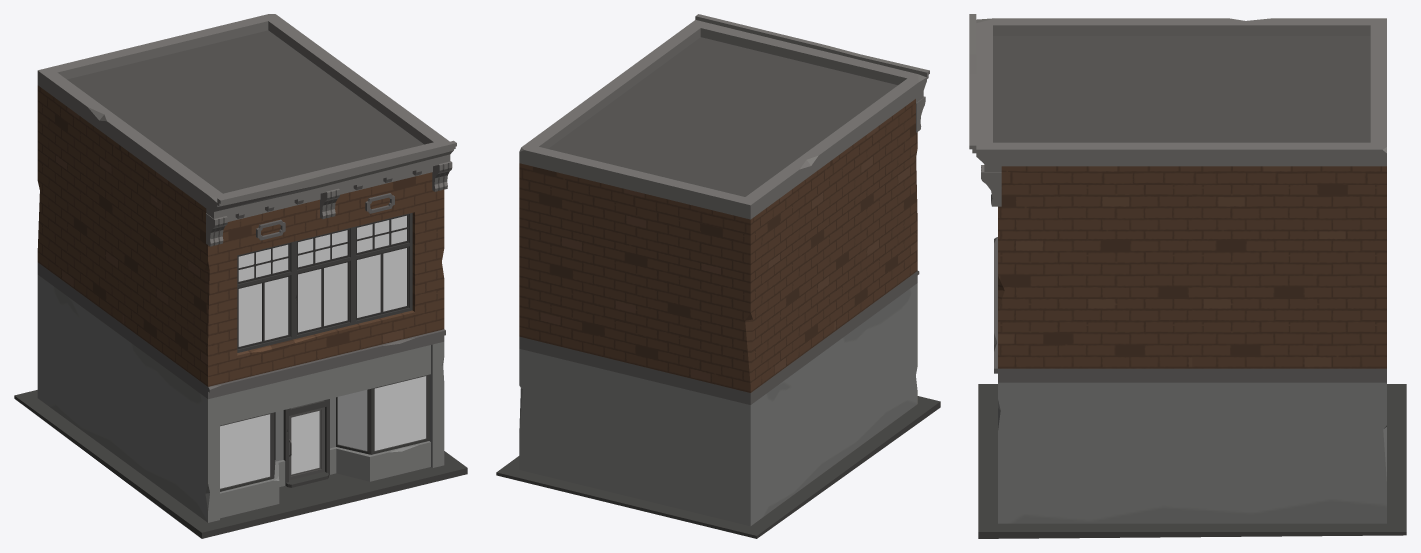
The model's file is SM_Bldg_City_Shop_03.fbx.
The picture shows the model from 3 angles, left to right: view 1: azimuth 30°, elevation 25°; view 2: azimuth 150°, elevation 25°; view 3: azimuth 270°, elevation 25°; orthographic projection. The views are drawn at different scales.
Visible parts, largest first — view 1: SM_Bldg_City_Shop_03, SM_Bldg_City_Shop_03_Glass, SM_Bldg_City_Shop_03_Base, SM_Bldg_City_Shop_03_Door; view 2: SM_Bldg_City_Shop_03, SM_Bldg_City_Shop_03_Base; view 3: SM_Bldg_City_Shop_03, SM_Bldg_City_Shop_03_Base.
Part boxes in pixels (x1=…): SM_Bldg_City_Shop_03: x1=37, y1=14, x2=456, y2=522; SM_Bldg_City_Shop_03_Glass: x1=220, y1=215, x2=426, y2=488; SM_Bldg_City_Shop_03_Base: x1=14, y1=390, x2=467, y2=538; SM_Bldg_City_Shop_03_Door: x1=289, y1=407, x2=324, y2=480; SM_Bldg_City_Shop_03: x1=519, y1=14, x2=929, y2=526; SM_Bldg_City_Shop_03_Base: x1=496, y1=396, x2=940, y2=538; SM_Bldg_City_Shop_03: x1=969, y1=14, x2=1386, y2=523; SM_Bldg_City_Shop_03_Base: x1=978, y1=384, x2=1406, y2=538.
Size of the model in its own units: 900 by 1092 by 1123.
